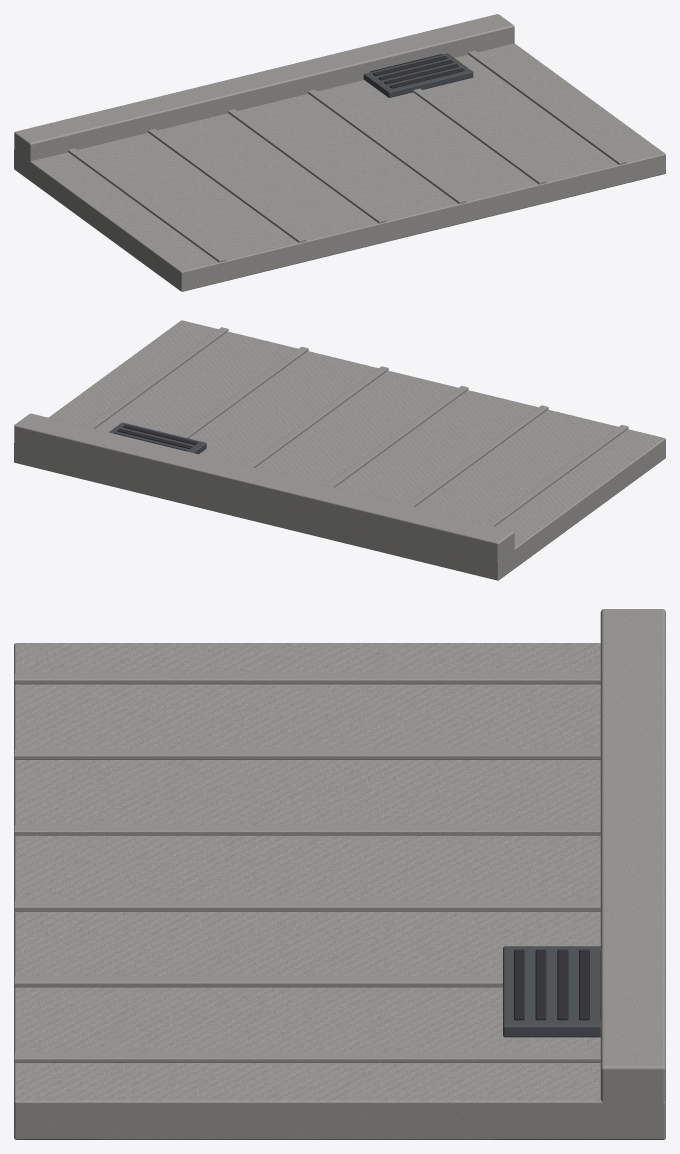
Rendered from battle-royale-town-and-airfield-pavement-slab-a28a3191__28216.glb.
3 renders of one model, top to bottom at view 1: azimuth 30°, elevation 25°; view 2: azimuth 150°, elevation 25°; view 3: azimuth 270°, elevation 25°, orthographic. The views are drawn at different scales.
Parts seen in each view (by area): view 1: pavement-slab; view 2: pavement-slab; view 3: pavement-slab.
Boxes of the visible parts, box(x1,y1,x2,y2) form: pavement-slab: box(14, 14, 665, 291); pavement-slab: box(14, 320, 665, 580); pavement-slab: box(14, 609, 665, 1139).
Size of the model in its own units: 4 by 0.2998 by 2.4.
Materials: 3 (1 with a texture image).
